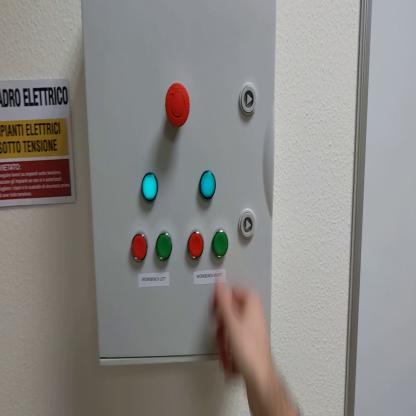hand: (211, 279, 273, 384)
left green button: (156, 233, 173, 263)
left red button: (133, 233, 149, 264)
right green button: (214, 229, 229, 260)
right red button: (190, 231, 205, 261)
